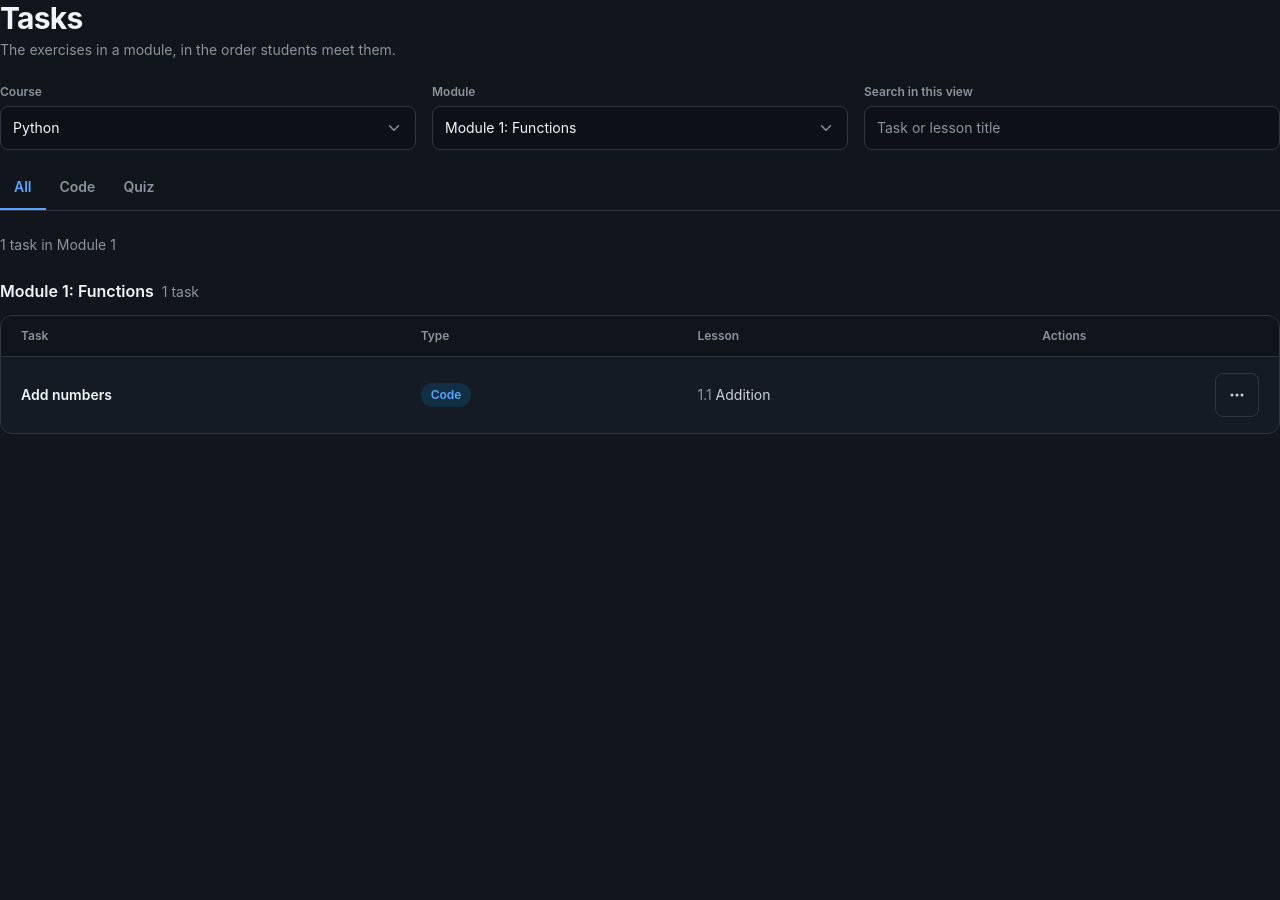
Test case: requires confirmation, permits cancel, and clears cached task after delete
Click the button named "Actions for Add numbers".
click(1237, 395)  # box [1215, 373, 1259, 417]
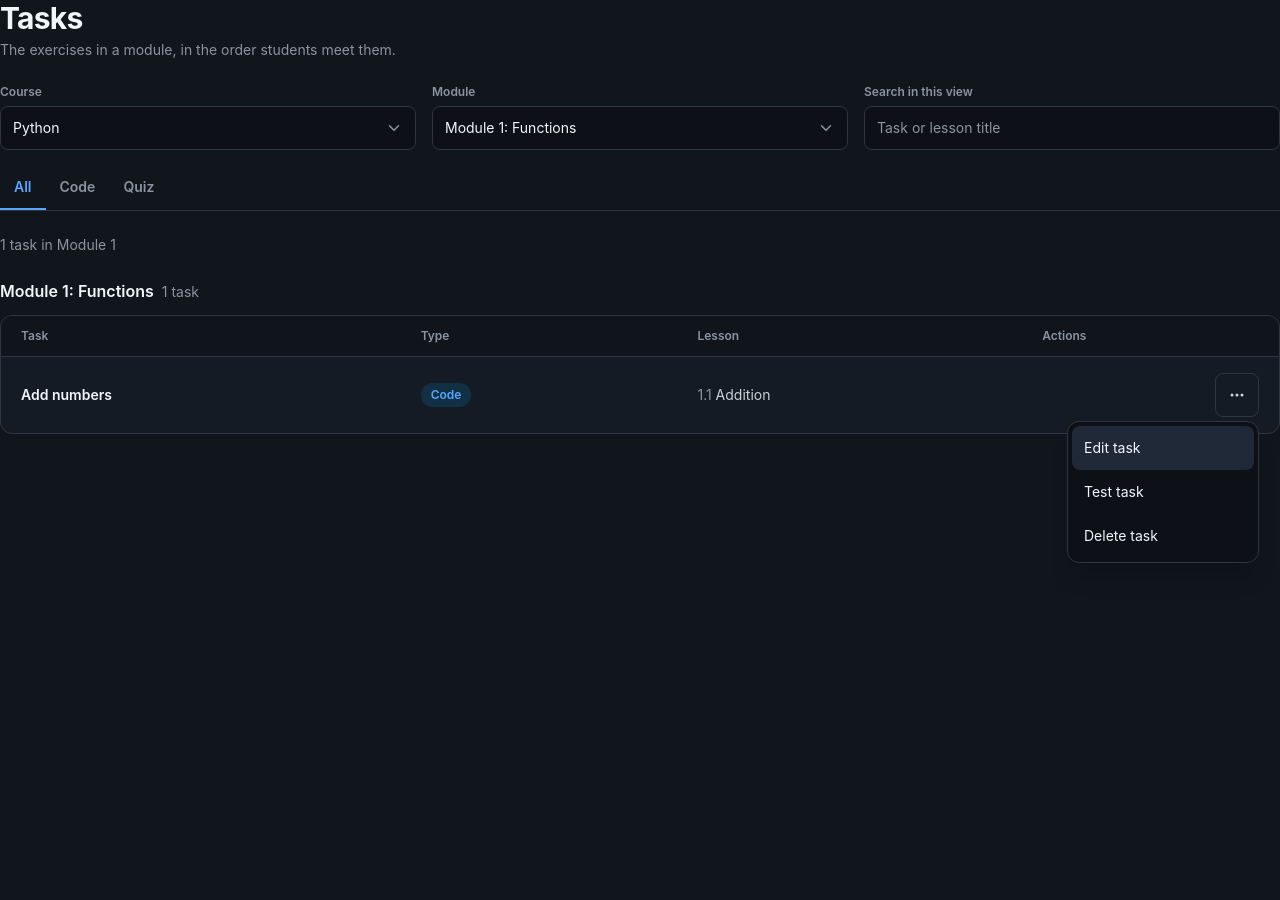
Click the menu item "Delete task".
click(1163, 536)  # box [1072, 514, 1254, 558]
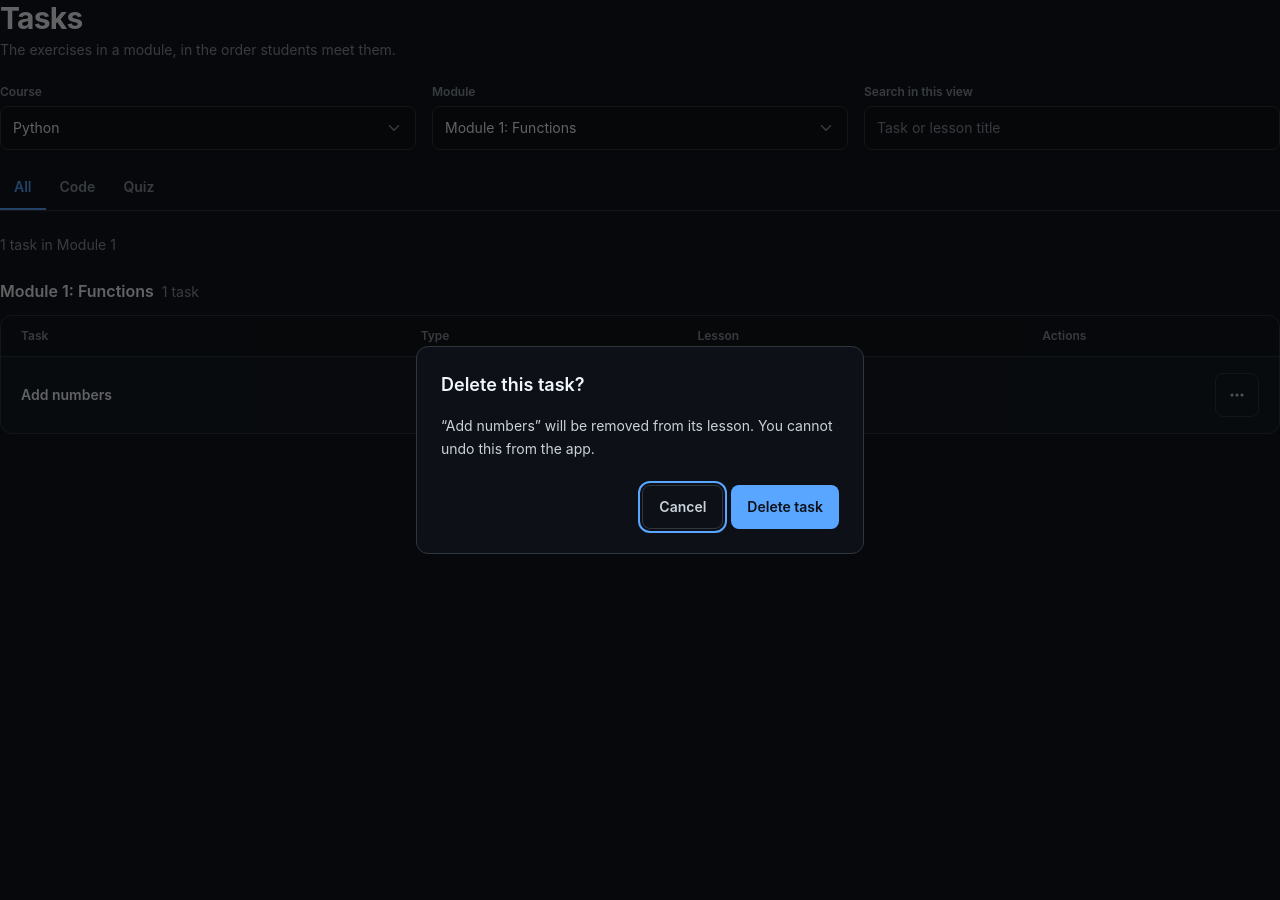
Click the button "Cancel".
click(683, 507)  # box [642, 485, 723, 529]
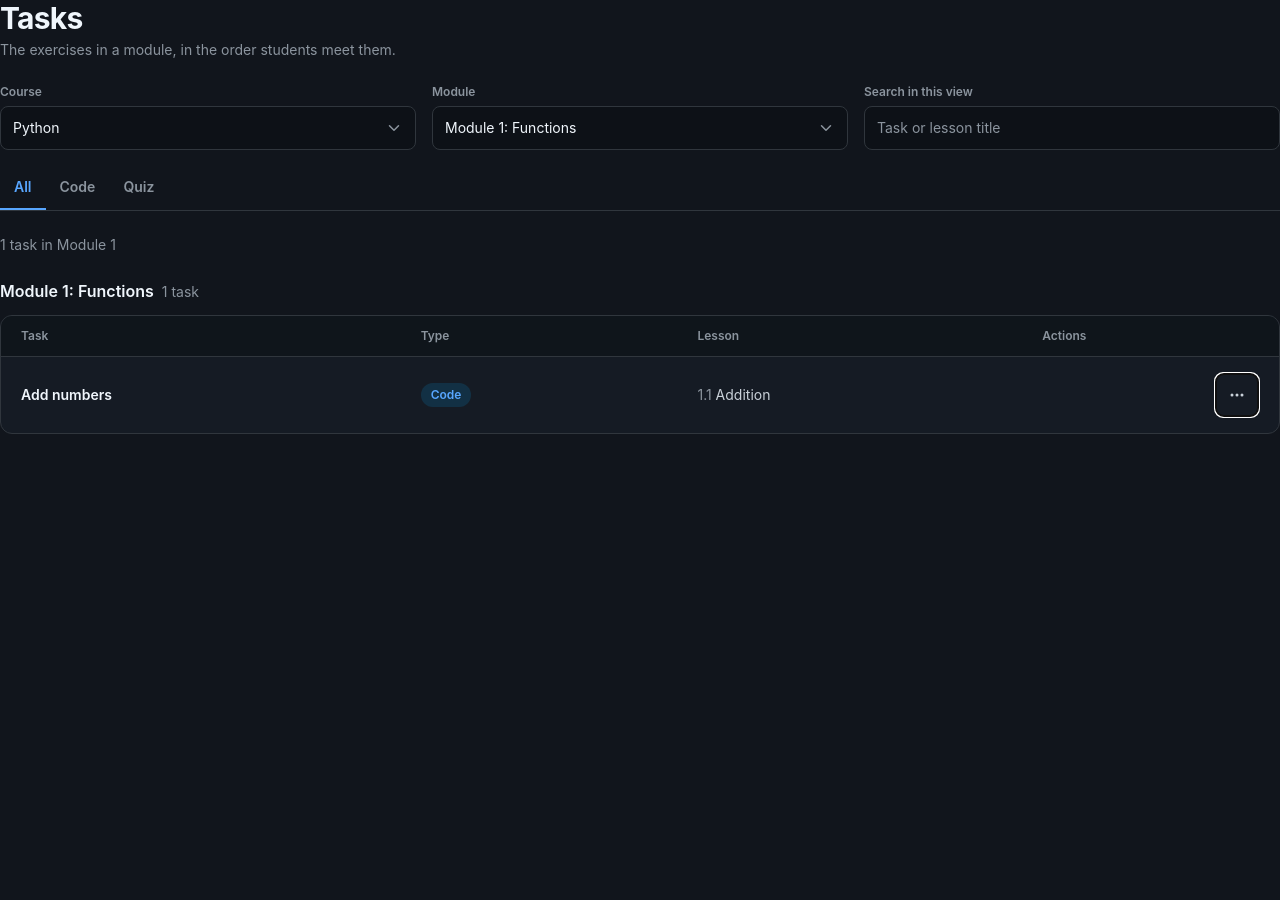
Click the button named "Actions for Add numbers".
click(1237, 395)  # box [1215, 373, 1259, 417]
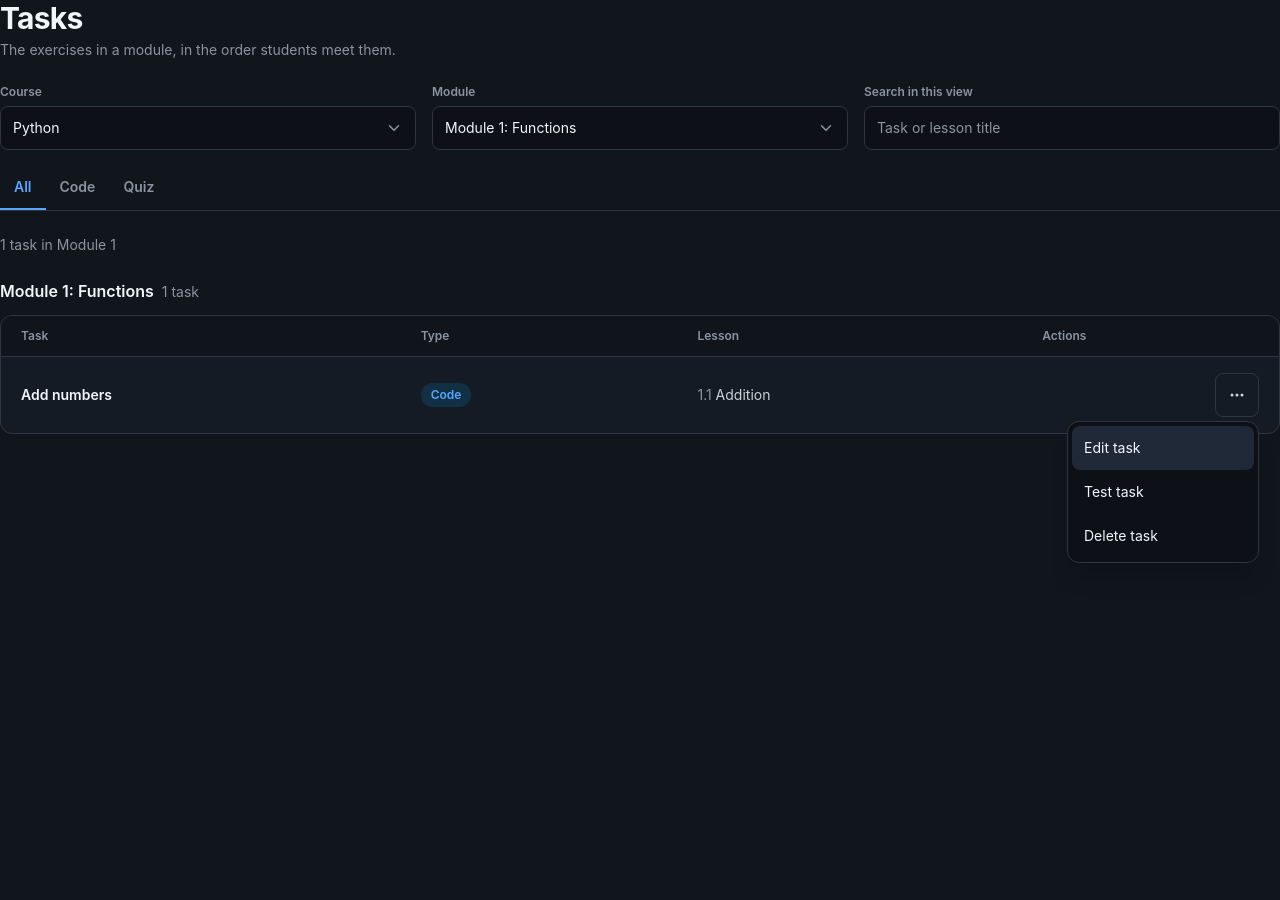
Click the menu item "Delete task".
click(1163, 536)  # box [1072, 514, 1254, 558]
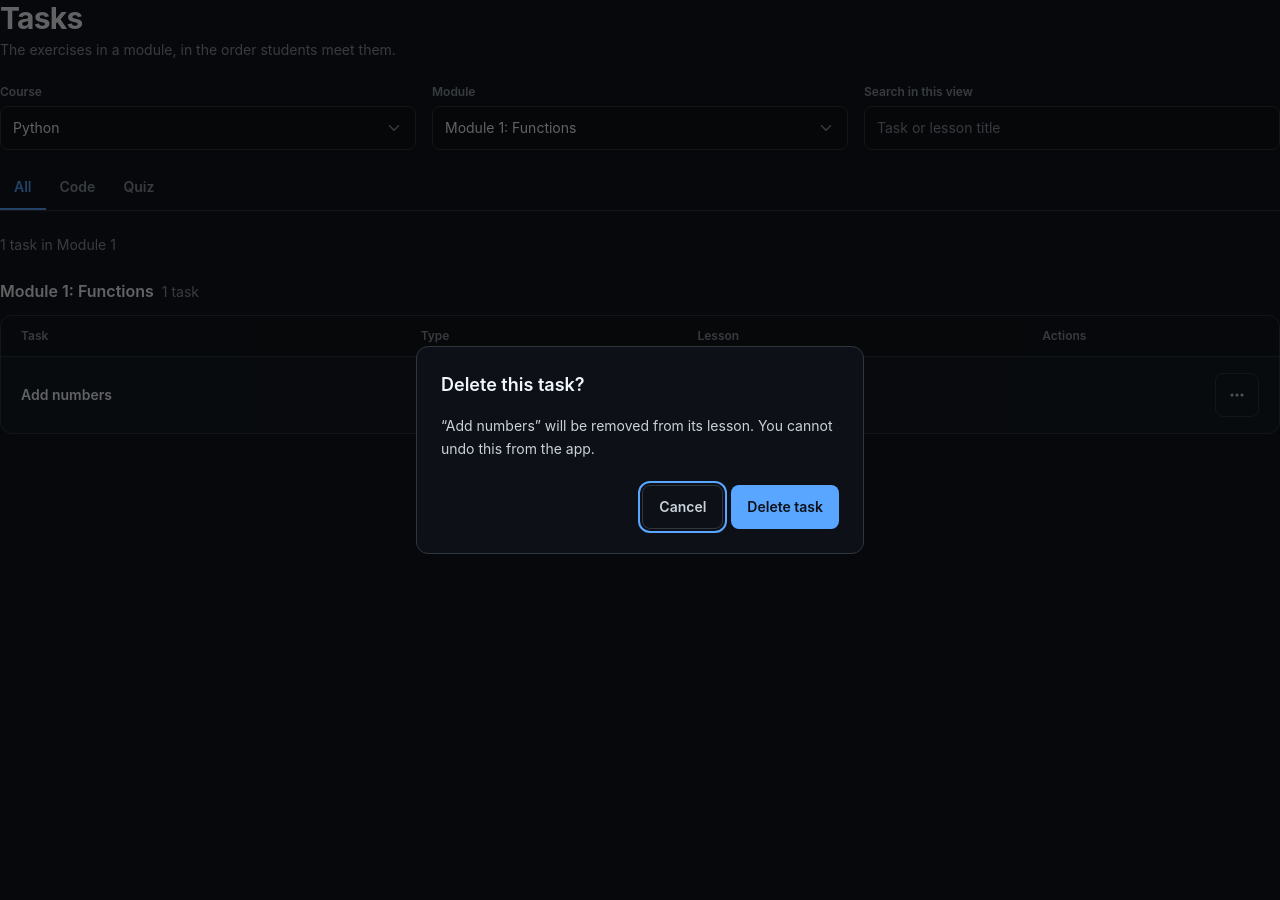
Click the button "Delete task".
click(785, 507)  # box [731, 485, 839, 529]
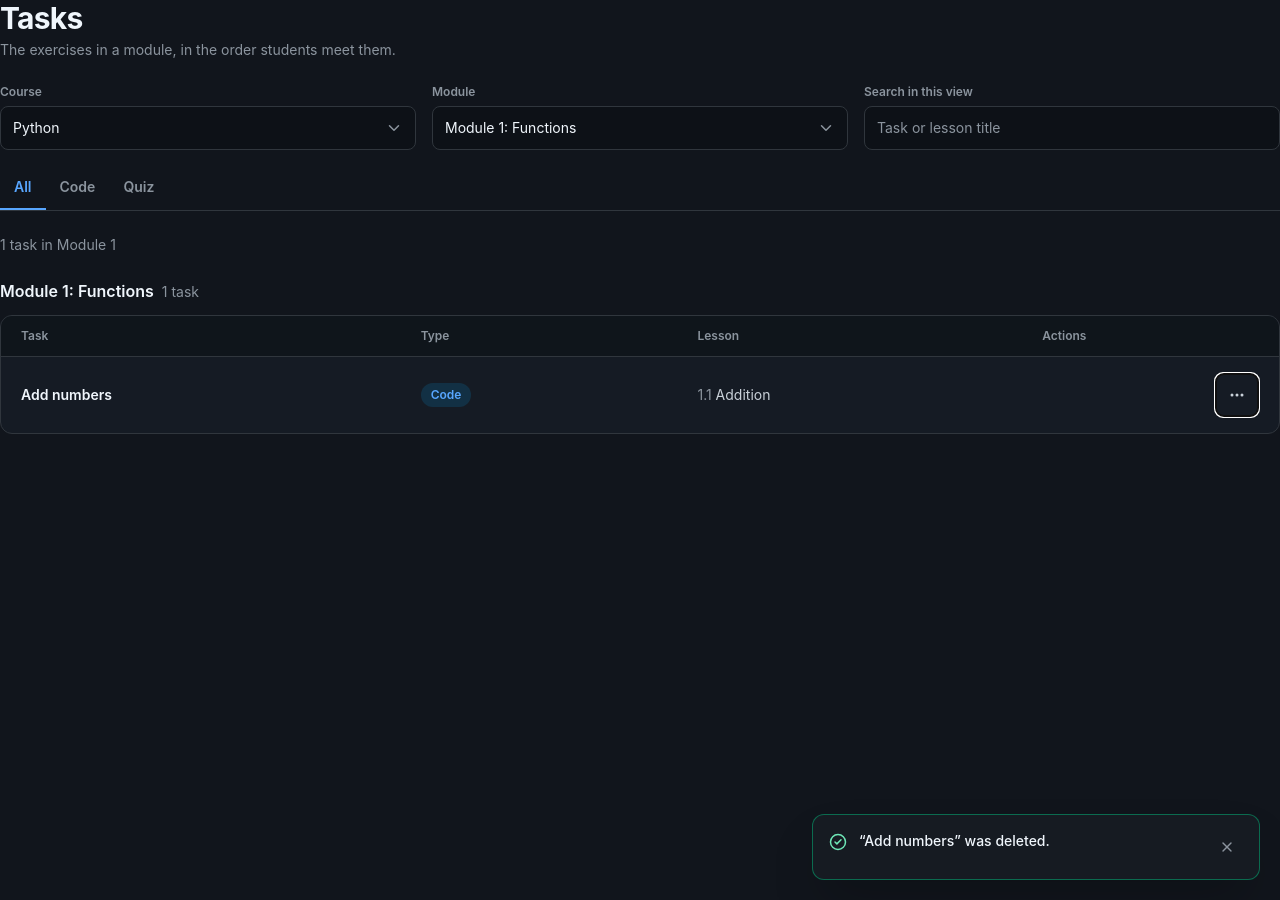
expect the text "“Add numbers” was deleted." is shown: met, box [859, 832, 1050, 849]
